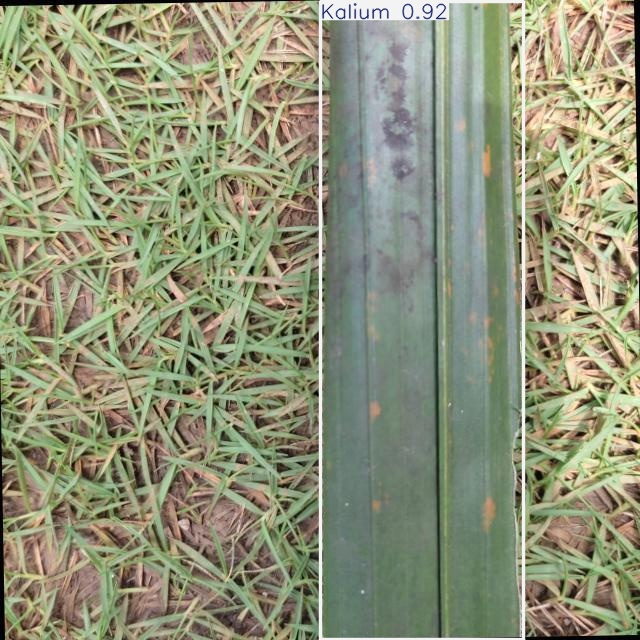Kalium: (320, 2, 524, 639)
